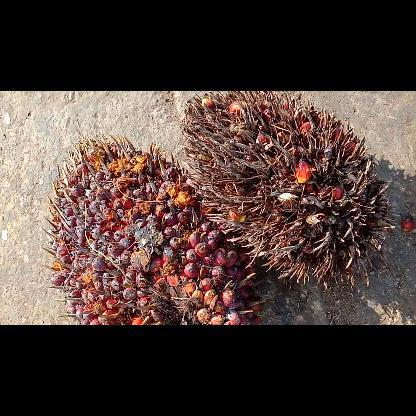TBS masak: (41, 132, 262, 324)
Terlalu masak: (180, 90, 398, 286)
